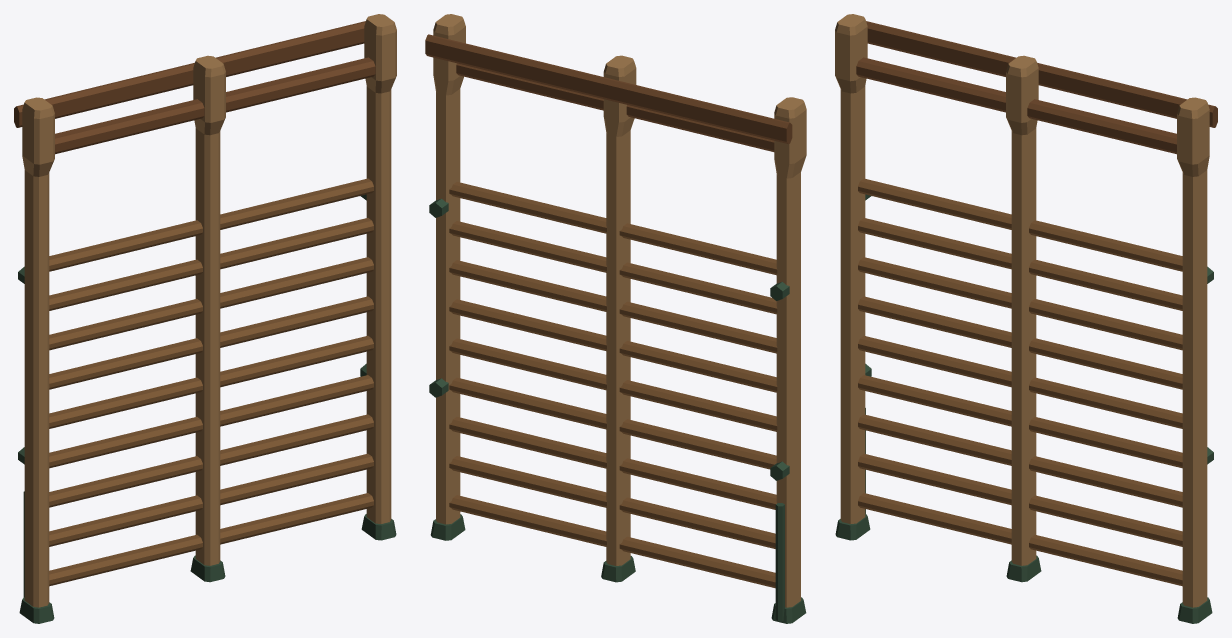
Rendered from wall-bars-2ab841.glb.
3 renders of one model, left to right at view 1: azimuth 30°, elevation 25°; view 2: azimuth 150°, elevation 25°; view 3: azimuth 330°, elevation 25°, orthographic.
Parts seen in each view (by area): view 1: bay-frame, wall-fixings; view 2: bay-frame, wall-fixings; view 3: bay-frame, wall-fixings.
Part boxes in pixels (bbox=[...]): bay-frame: bbox=[18, 14, 396, 623]; wall-fixings: bbox=[14, 21, 365, 127]; bay-frame: bbox=[429, 14, 806, 623]; wall-fixings: bbox=[425, 34, 792, 144]; bay-frame: bbox=[835, 14, 1213, 623]; wall-fixings: bbox=[866, 21, 1217, 127].
Bounding box in the file's own units: 2 × 2.7 × 0.211.
